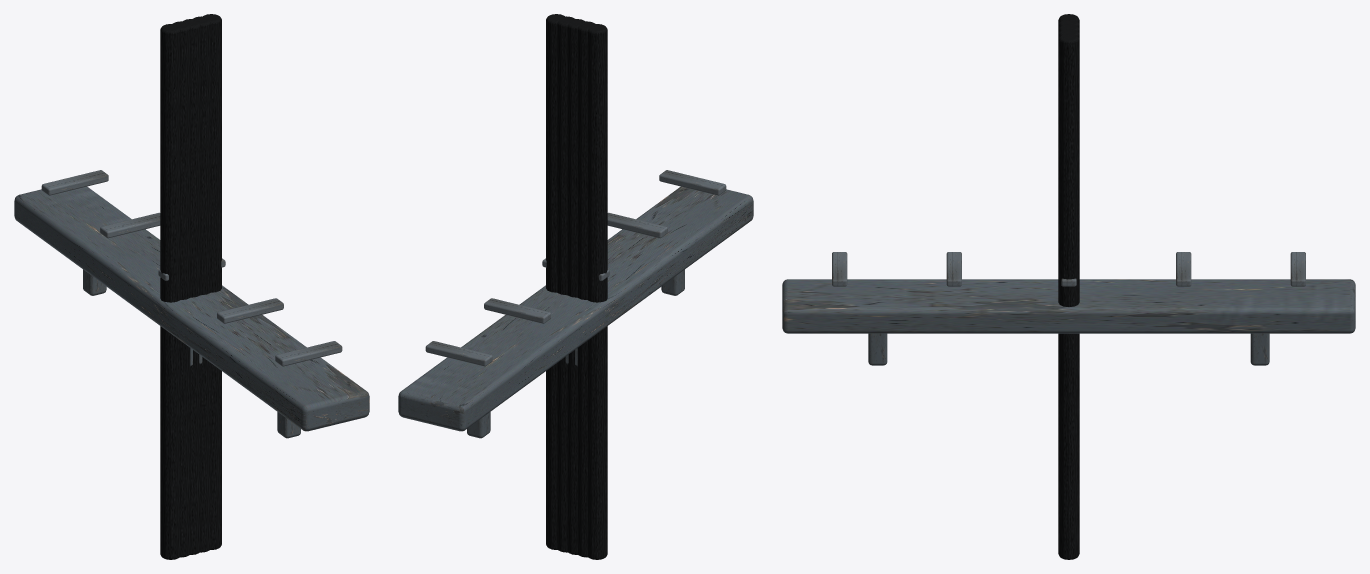
The model's file is cable_bundle.glb.
3 renders of one model, left to right at view 1: azimuth 30°, elevation 25°; view 2: azimuth 150°, elevation 25°; view 3: azimuth 270°, elevation 25°, orthographic.
Visible parts, largest first — view 1: CableTray, Cable0, Cable4, Cable1, Cable2, Cable3, CableClamp6, CableClamp54, CableClamp42, CableClamp18; view 2: CableTray, Cable0, Cable4, Cable1, Cable2, Cable3, CableClamp6, CableClamp54, CableClamp18, CableClamp42; view 3: CableTray, Cable4.
Boxes of the visible parts, x1,y1,x2,y2 form: CableTray: [14, 186, 369, 431]; Cable0: [160, 24, 180, 559]; Cable4: [203, 14, 221, 549]; Cable1: [172, 21, 190, 557]; Cable2: [182, 19, 200, 554]; Cable3: [193, 16, 210, 552]; CableClamp6: [41, 170, 108, 195]; CableClamp54: [275, 341, 342, 366]; CableClamp42: [217, 298, 283, 323]; CableClamp18: [100, 212, 160, 238]; CableTray: [398, 186, 753, 431]; Cable0: [587, 24, 607, 559]; Cable4: [546, 14, 564, 549]; Cable1: [577, 21, 595, 557]; Cable2: [567, 19, 585, 554]; Cable3: [557, 16, 574, 552]; CableClamp6: [425, 341, 492, 366]; CableClamp54: [659, 170, 726, 195]; CableClamp18: [484, 298, 550, 323]; CableClamp42: [607, 212, 667, 238]; CableTray: [782, 279, 1355, 333]; Cable4: [1058, 34, 1079, 559].
Size of the model in its own units: 0.8 by 6 by 6.
Materials: 3 (3 with a texture image).
